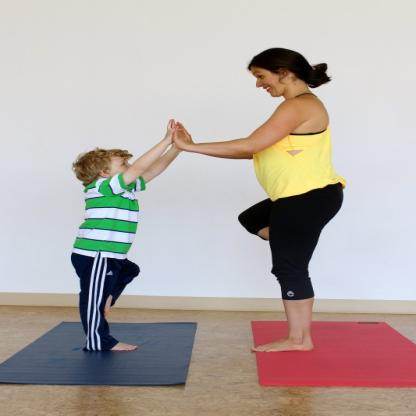tree: (232, 41, 349, 359), (44, 137, 169, 368)
